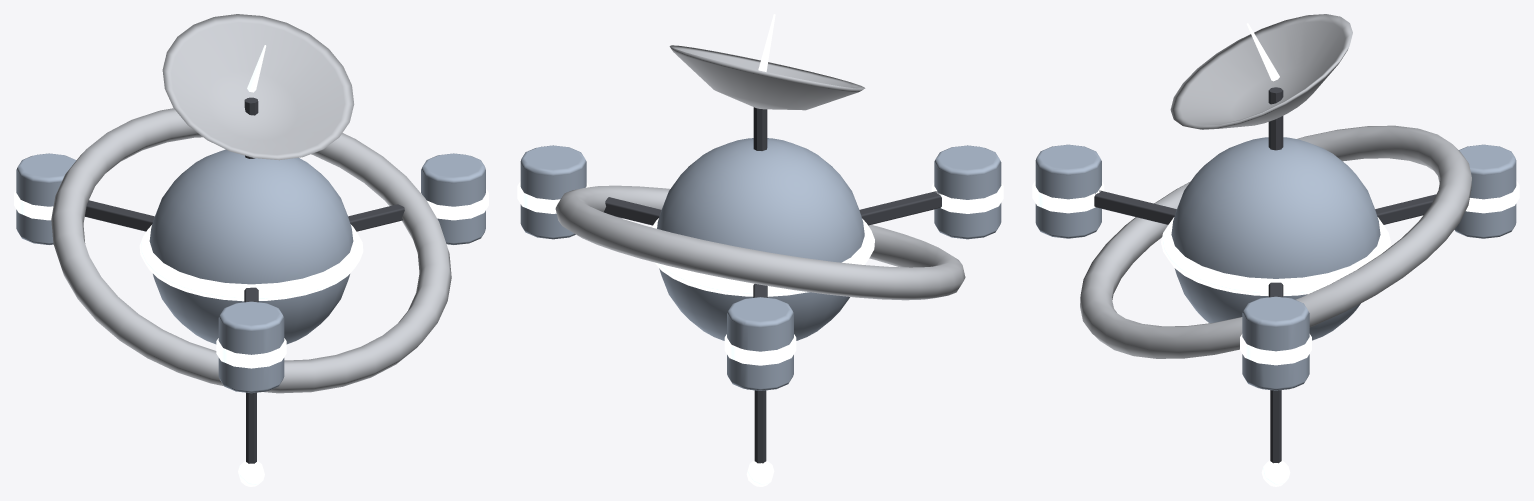
Rendered from research.glb.
3 views of the same model, side by side, from view 1: azimuth 30°, elevation 25°; view 2: azimuth 150°, elevation 25°; view 3: azimuth 270°, elevation 25° (orthographic). The views are drawn at different scales.
Parts seen in each view (by area): view 1: research; view 2: research; view 3: research.
Part boxes in pixels (x1=…): research: x1=14, y1=14, x2=488, y2=486; research: x1=517, y1=14, x2=1003, y2=486; research: x1=1032, y1=14, x2=1519, y2=486.
Size of the model in its own units: 1.01 by 1.06 by 1.02.
